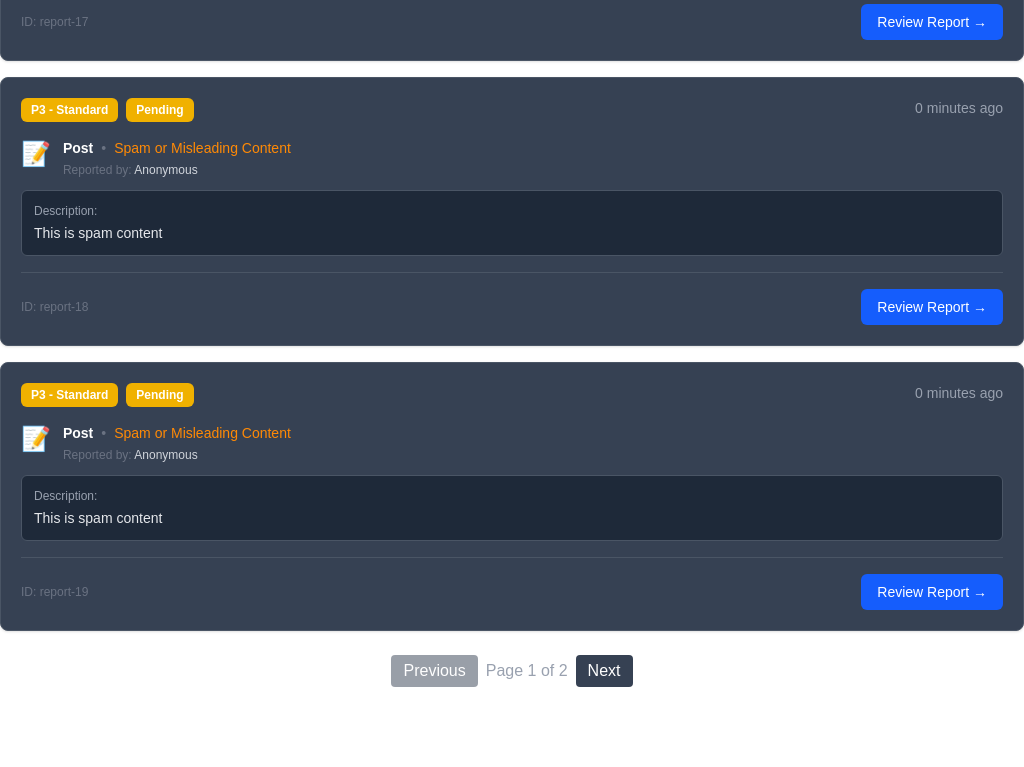
Test: ModerationQueue › Pagination › should navigate to next page
This screenshot has width=1024, height=767.
(page scrolled)
Check: the text "Page 1 of 2" is shown, box [486,659,568,683]
Click the button "Next".
click(604, 671)  # box [576,655,632,687]
(page scrolled)
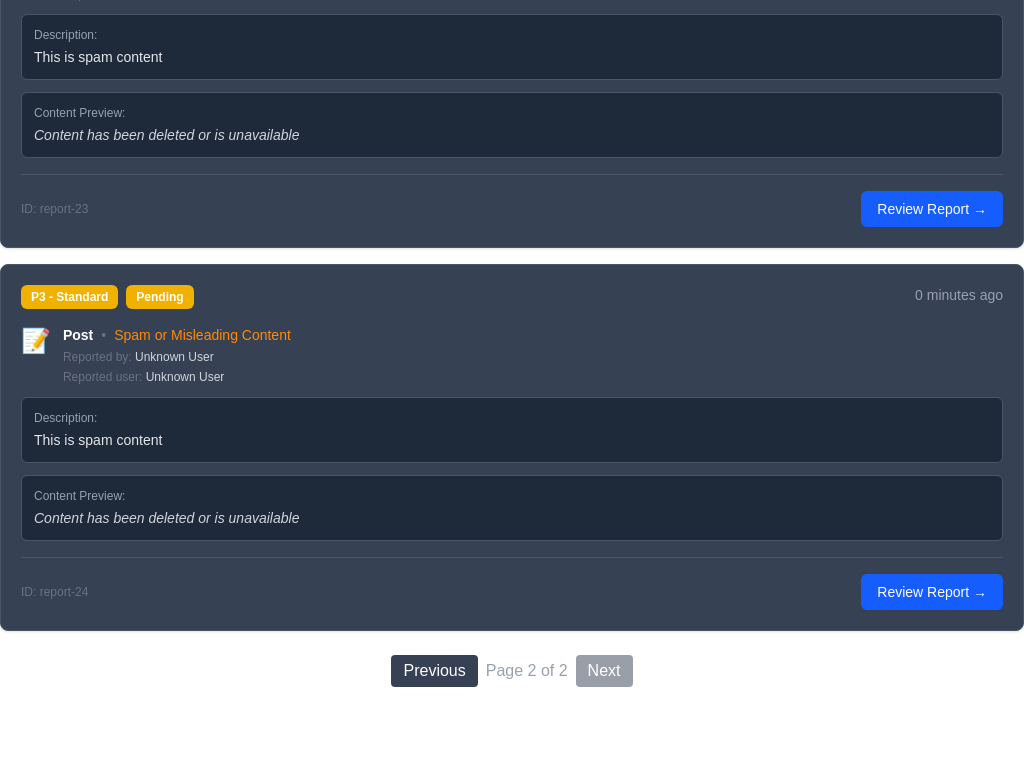
Check: the text "Page 2 of 2" is shown, box [486,659,568,683]
